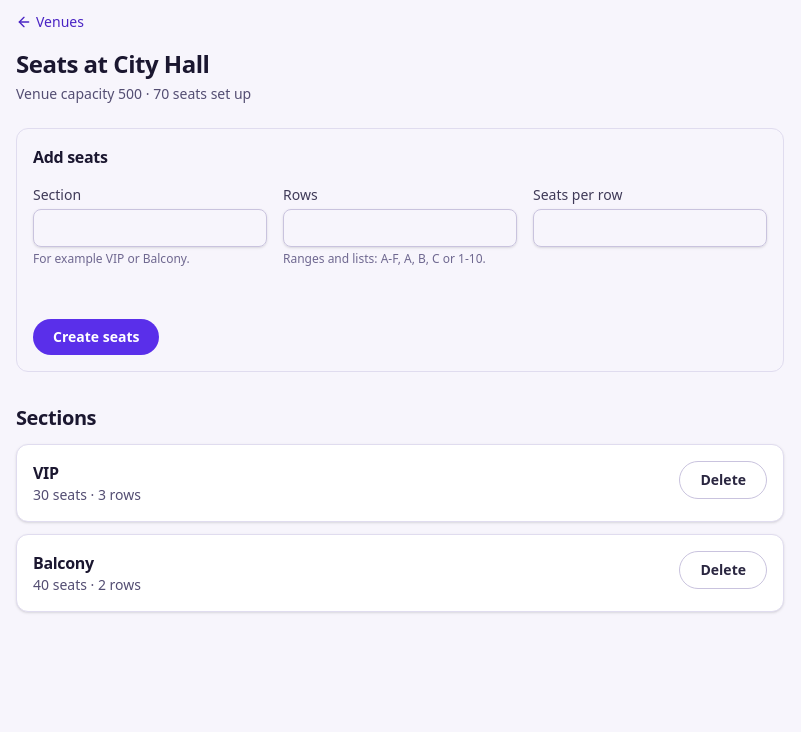
OrganizerSeatsPage › shows the server's reason when a section cannot be deleted
expect the text "30 seats · 3 rows" is shown: met, box [33,485,141,505]
Click the button with aria-label "Delete section VIP": (723, 480) [680,461,767,499]
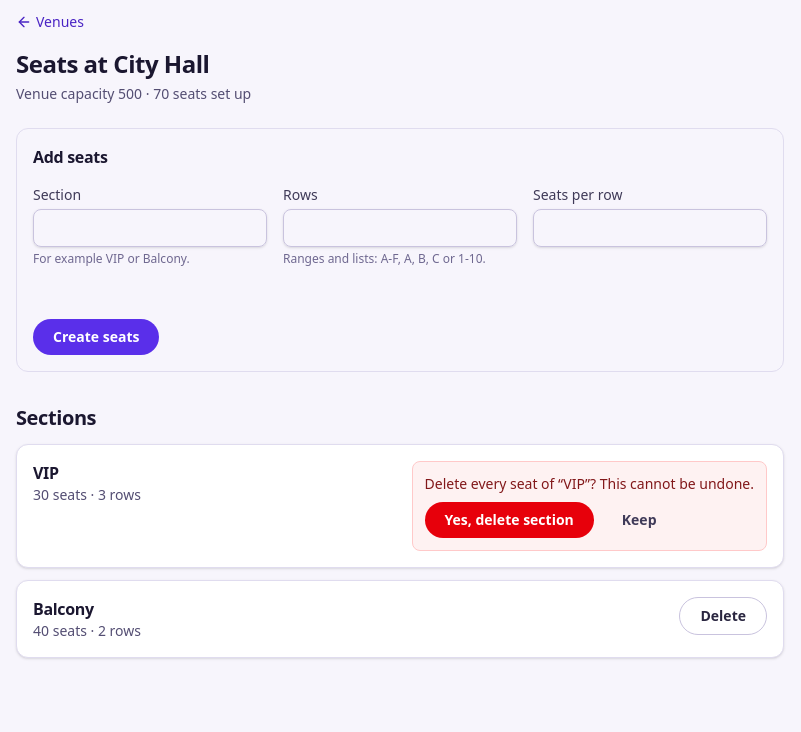
Click the button "Yes, delete section": (509, 520) [425,502,594,538]
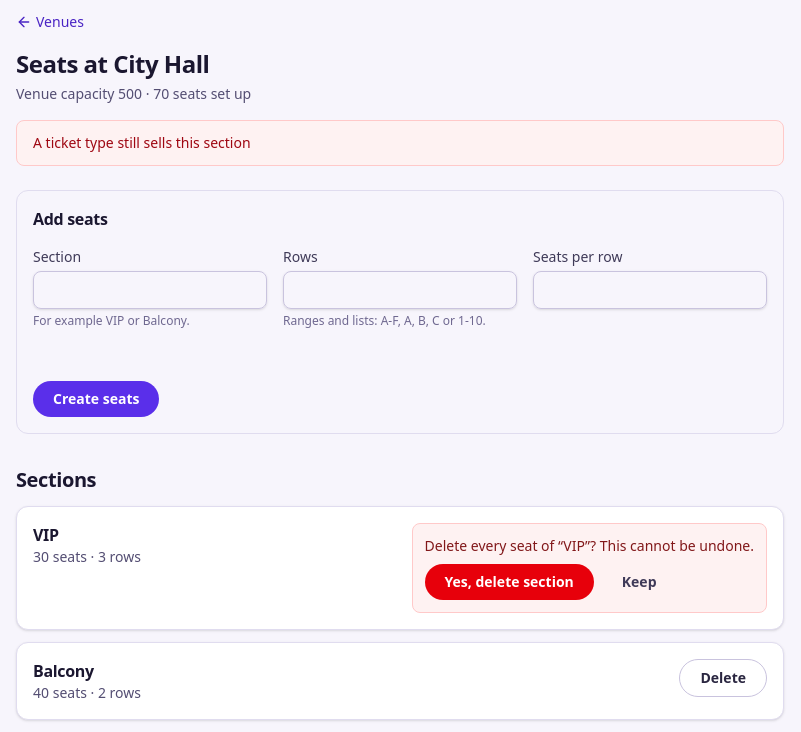
expect the text "30 seats · 3 rows" is shown: met, box [33,547,141,567]
expect the message shows "still sells this section": met, box [33,133,251,152]
